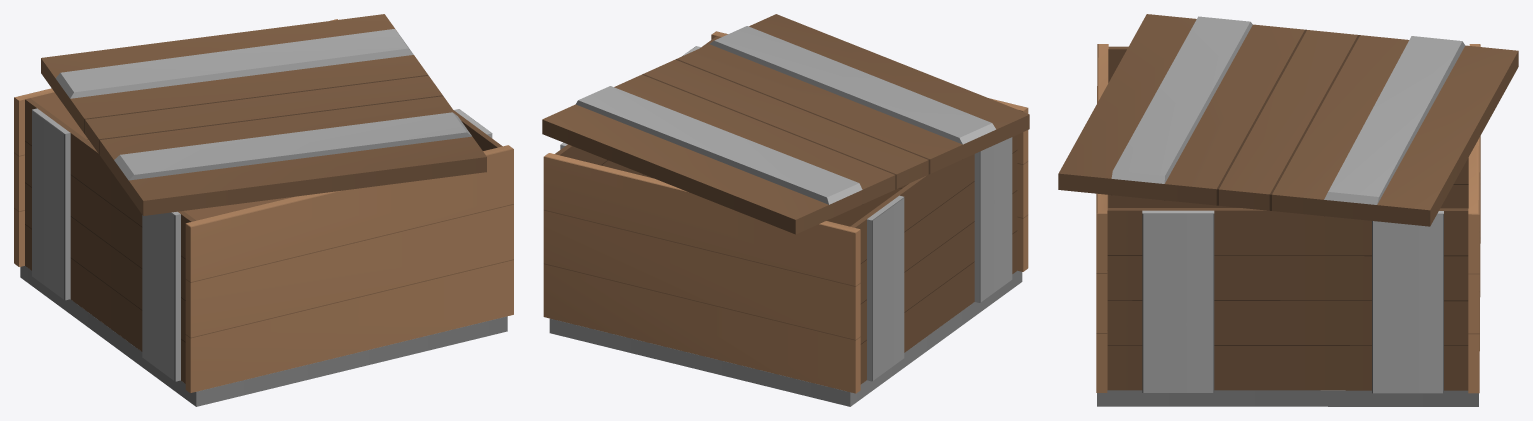
Rendered from Med Wide Crate w_Lid#2.fbx.
3 views of the same model, side by side, from view 1: azimuth 30°, elevation 25°; view 2: azimuth 150°, elevation 25°; view 3: azimuth 270°, elevation 25° (orthographic). The views are drawn at different scales.
Visible parts, largest first — view 1: Wide Colored Crate w/Lid #2; view 2: Wide Colored Crate w/Lid #2; view 3: Wide Colored Crate w/Lid #2.
Part boxes in pixels (left/top/right/bottom): Wide Colored Crate w/Lid #2: left=14, top=14, right=513, bottom=406; Wide Colored Crate w/Lid #2: left=542, top=14, right=1029, bottom=406; Wide Colored Crate w/Lid #2: left=1058, top=14, right=1518, bottom=406.
Bounding box in the file's own units: 193 × 368 × 372.
Materials: 1 (1 with a texture image).
